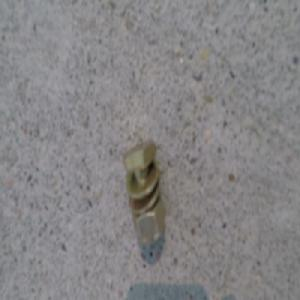BoltNutSet: (124, 138, 165, 242)
